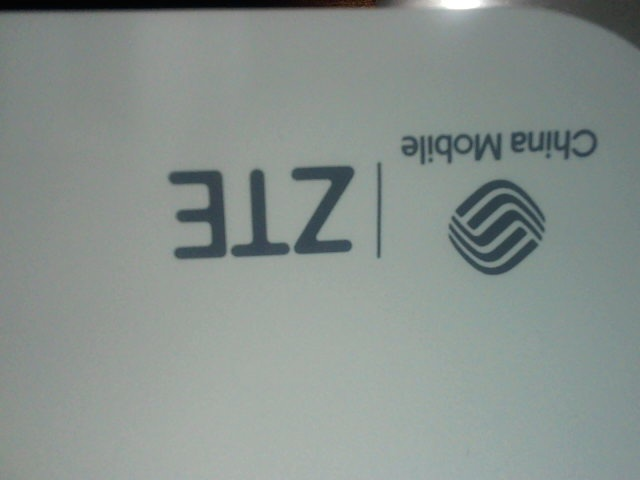AL_ZTEChinaMobile: (157, 126, 607, 282)
